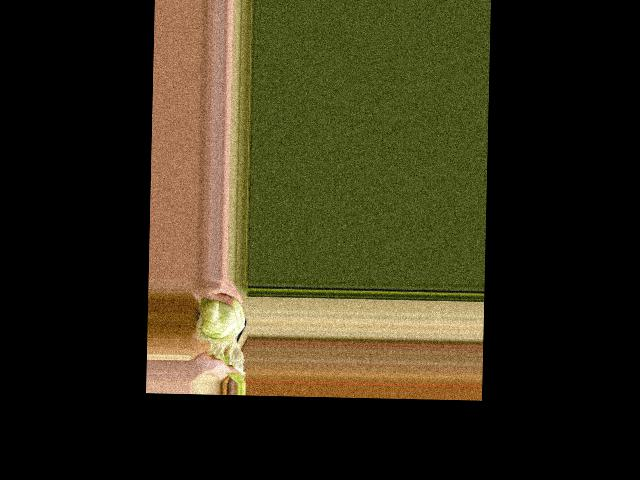lettuce: (192, 292, 247, 354)
